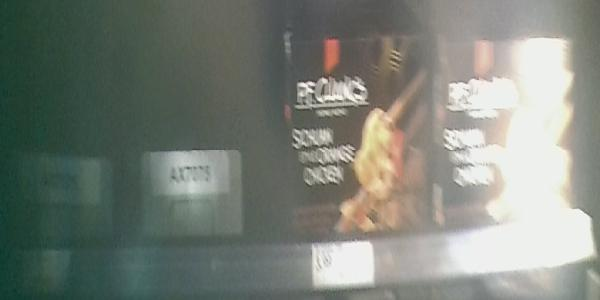pizza1: (288, 33, 433, 234), (436, 30, 578, 224)
